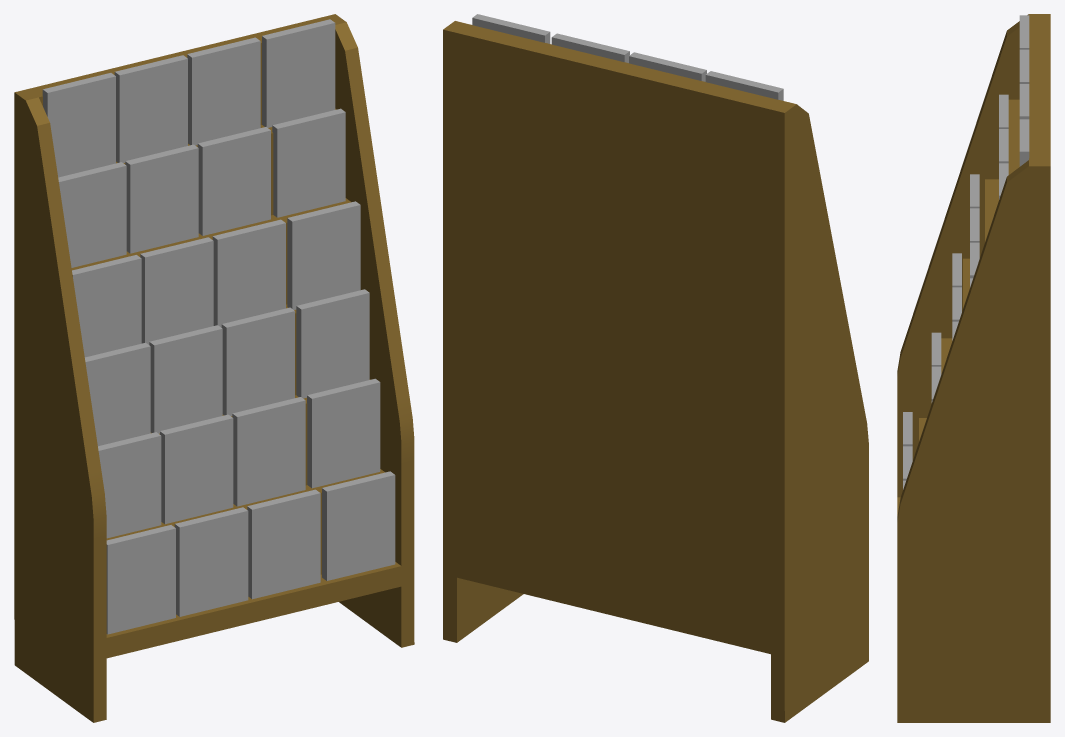
Rendered from MagazineStand.fbx.
3 views of the same model, side by side, from view 1: azimuth 30°, elevation 25°; view 2: azimuth 150°, elevation 25°; view 3: azimuth 270°, elevation 25° (orthographic). The views are drawn at different scales.
Parts seen in each view (by area): view 1: MagazineStand1; view 2: MagazineStand1; view 3: MagazineStand1.
Part boxes in pixels (x1,y1,x2,y2): MagazineStand1: (14,14,414,722); MagazineStand1: (443,14,868,722); MagazineStand1: (897,14,1050,722).
Bounding box in the file's own units: 9.38 × 16.19 × 4.
